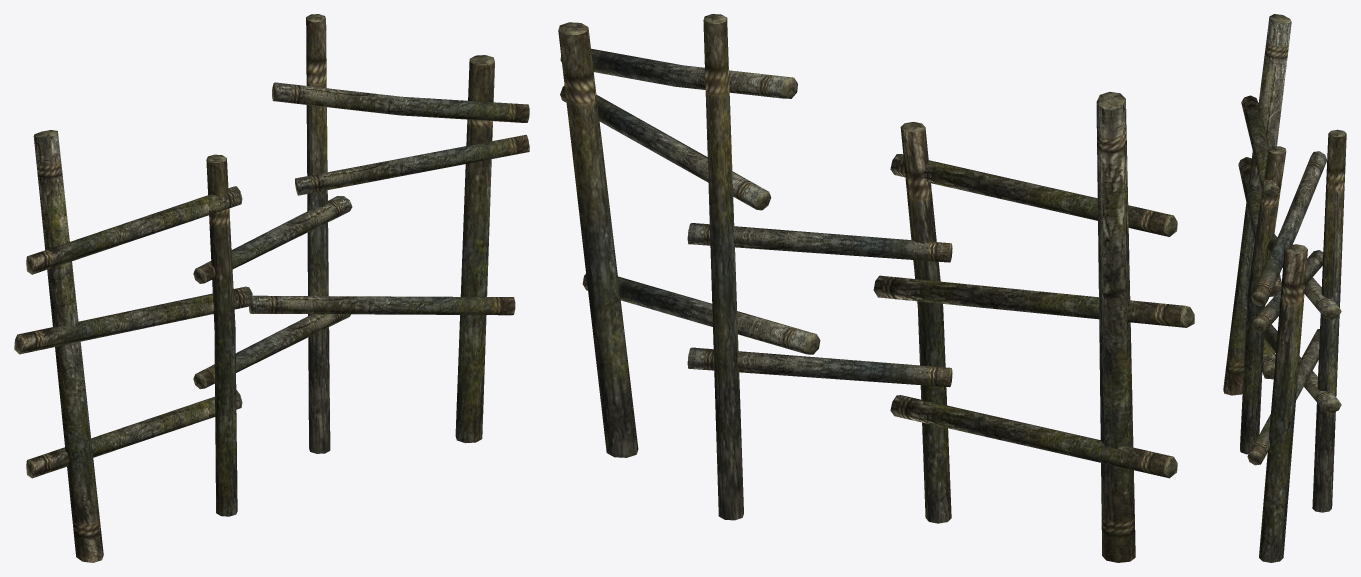
File: camp_woodhut_fence01.fbx
3 views of the same model, side by side, from view 1: azimuth 30°, elevation 25°; view 2: azimuth 150°, elevation 25°; view 3: azimuth 270°, elevation 25° (orthographic). The views are drawn at different scales.
Visible parts, largest first — view 1: camp_tent_woodhut_fence01; view 2: camp_tent_woodhut_fence01; view 3: camp_tent_woodhut_fence01.
Boxes of the visible parts, <box> form: camp_tent_woodhut_fence01: <box>14,14,529,562</box>; camp_tent_woodhut_fence01: <box>558,14,1194,562</box>; camp_tent_woodhut_fence01: <box>1223,14,1346,562</box>.
Bounding box in the file's own units: 10.02 × 7.86 × 2.31.
